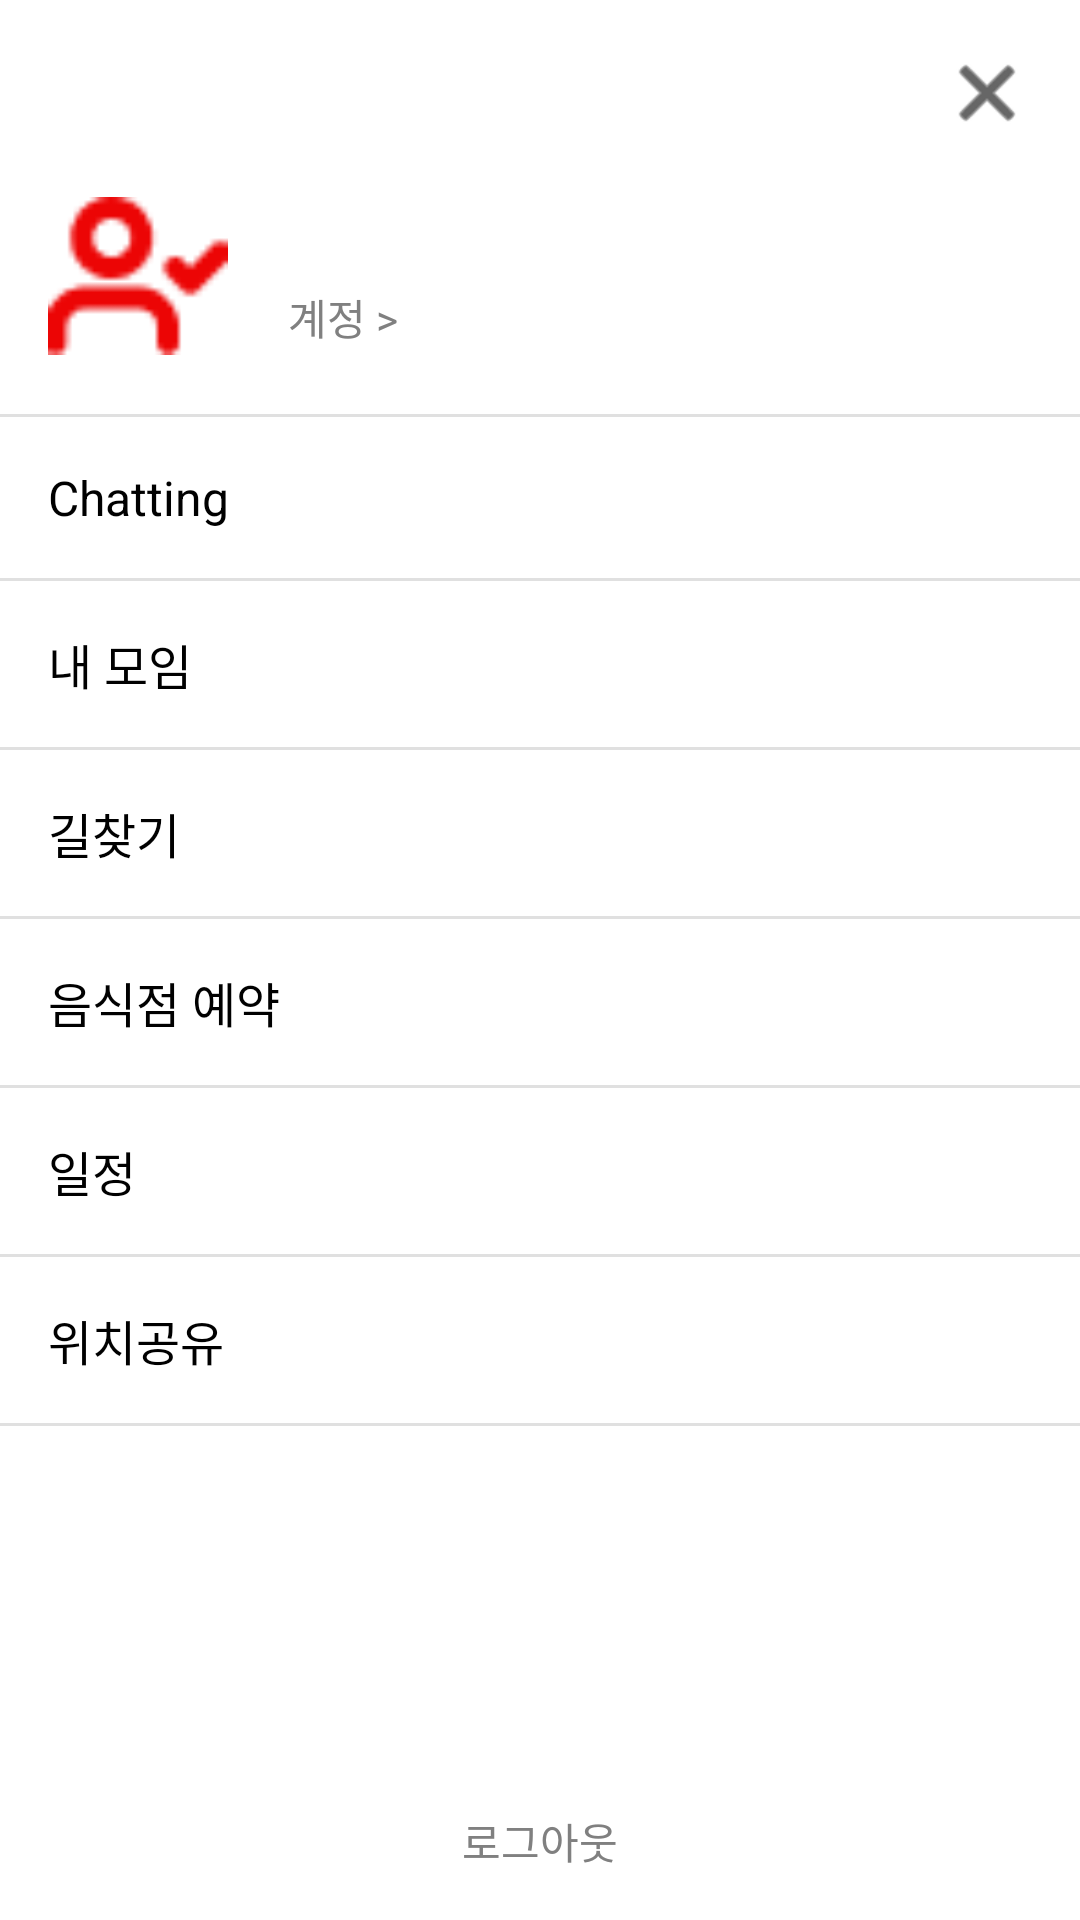

Point at icon controls on the screen. Image size 1080 x 1920, points as (x=x, y=y).
close clear cancel: (x=987, y=93)
profile: (x=138, y=276)
